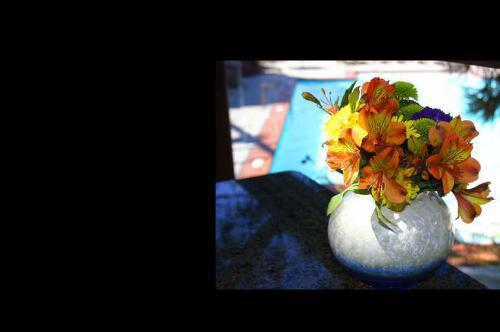Matera: (302, 79, 492, 283)
